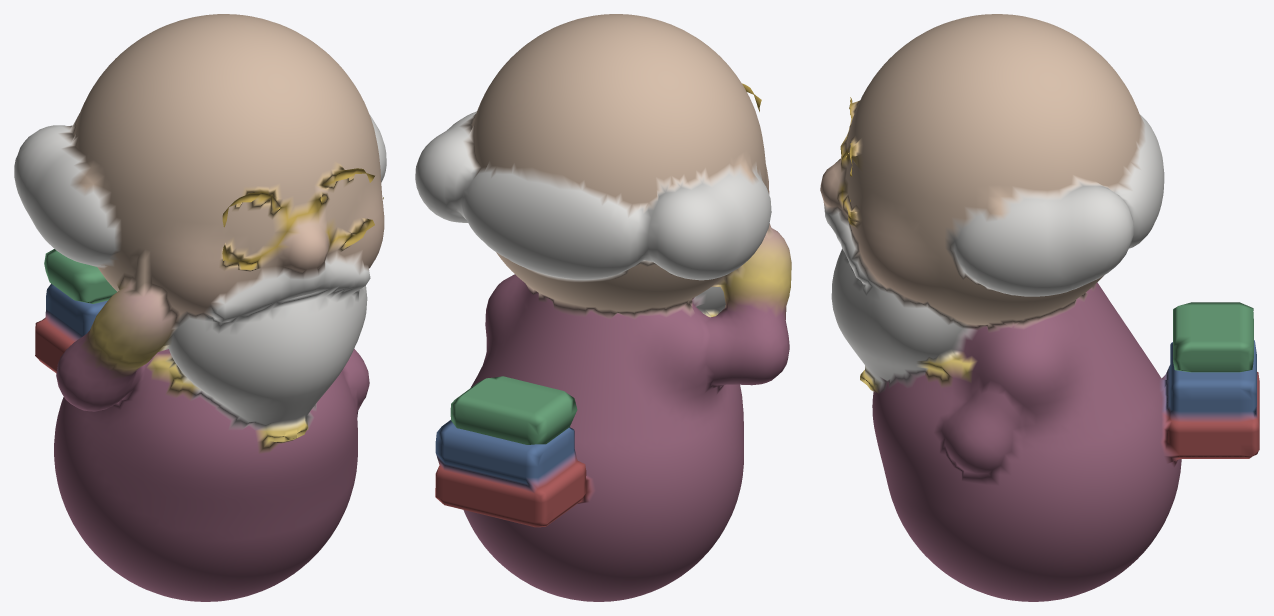
File: rider_c04.glb
3 views of the same model, side by side, from view 1: azimuth 30°, elevation 25°; view 2: azimuth 150°, elevation 25°; view 3: azimuth 270°, elevation 25° (orthographic). The views are drawn at different scales.
Visible parts, largest first — view 1: rider_c04; view 2: rider_c04; view 3: rider_c04.
Part boxes in pixels (left/top/right/bottom): rider_c04: left=14, top=14, right=386, bottom=601; rider_c04: left=415, top=14, right=791, bottom=601; rider_c04: left=820, top=14, right=1259, bottom=601.
Size of the model in its own units: 26.08 by 42.79 by 30.45.
